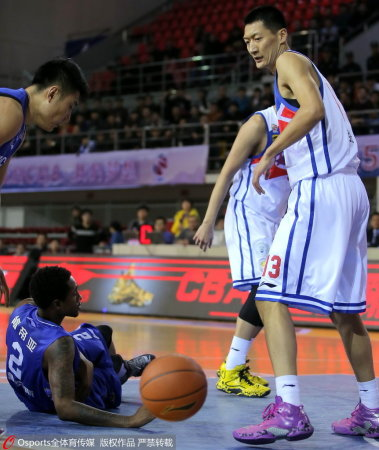10+: (1, 1, 379, 450)
down: (1, 261, 167, 437)
